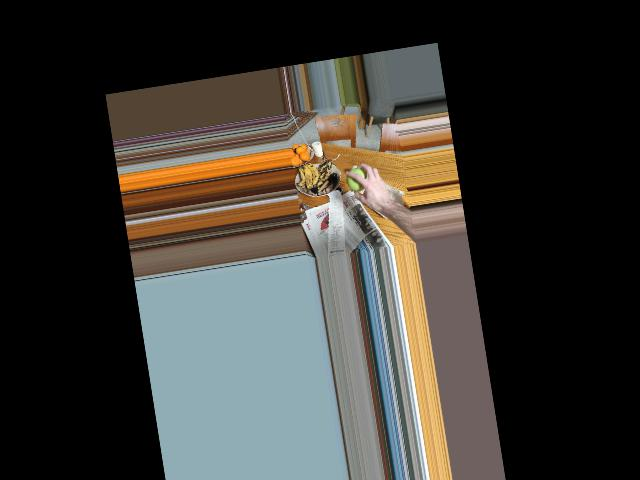apple: (345, 165, 371, 194)
